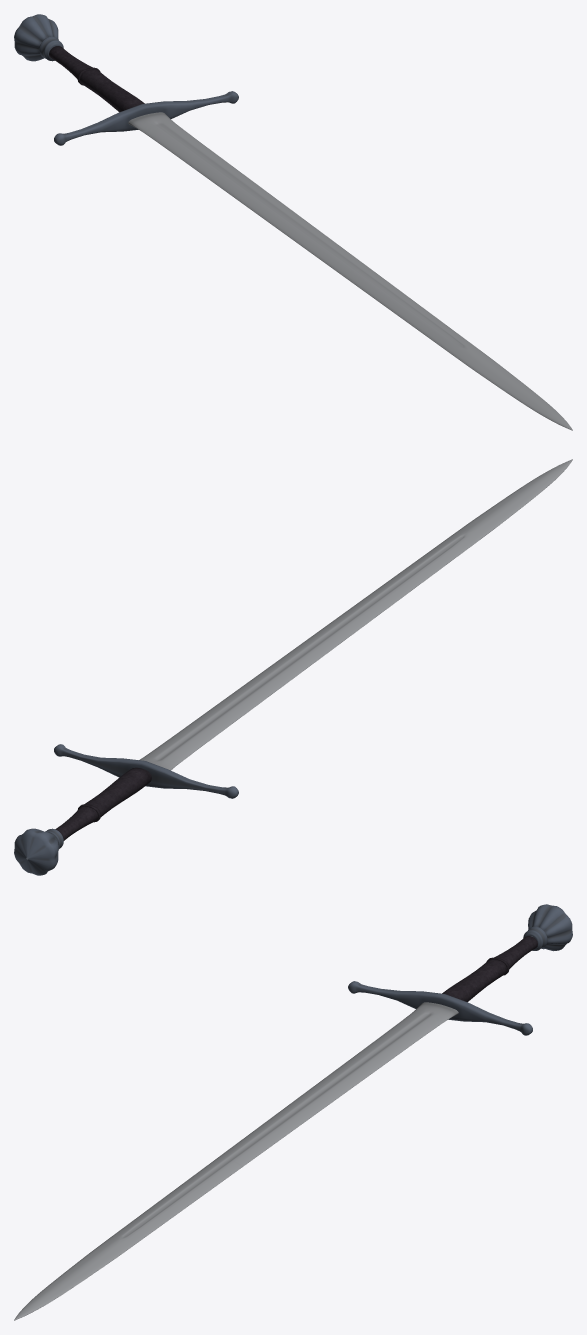
File: rook-_bastard_sword.fbx
3 renders of one model, top to bottom at view 1: azimuth 30°, elevation 25°; view 2: azimuth 150°, elevation 25°; view 3: azimuth 330°, elevation 25°, orthographic.
Visible parts, largest first — view 1: Object_2; view 2: Object_2; view 3: Object_2.
Part boxes in pixels (<box>): Object_2: <box>14,14,572,430</box>; Object_2: <box>14,459,572,875</box>; Object_2: <box>14,904,572,1320</box>.
Size of the model in its own units: 0.2449 by 0.0553 by 1.27.
1 material, 1 textured.
